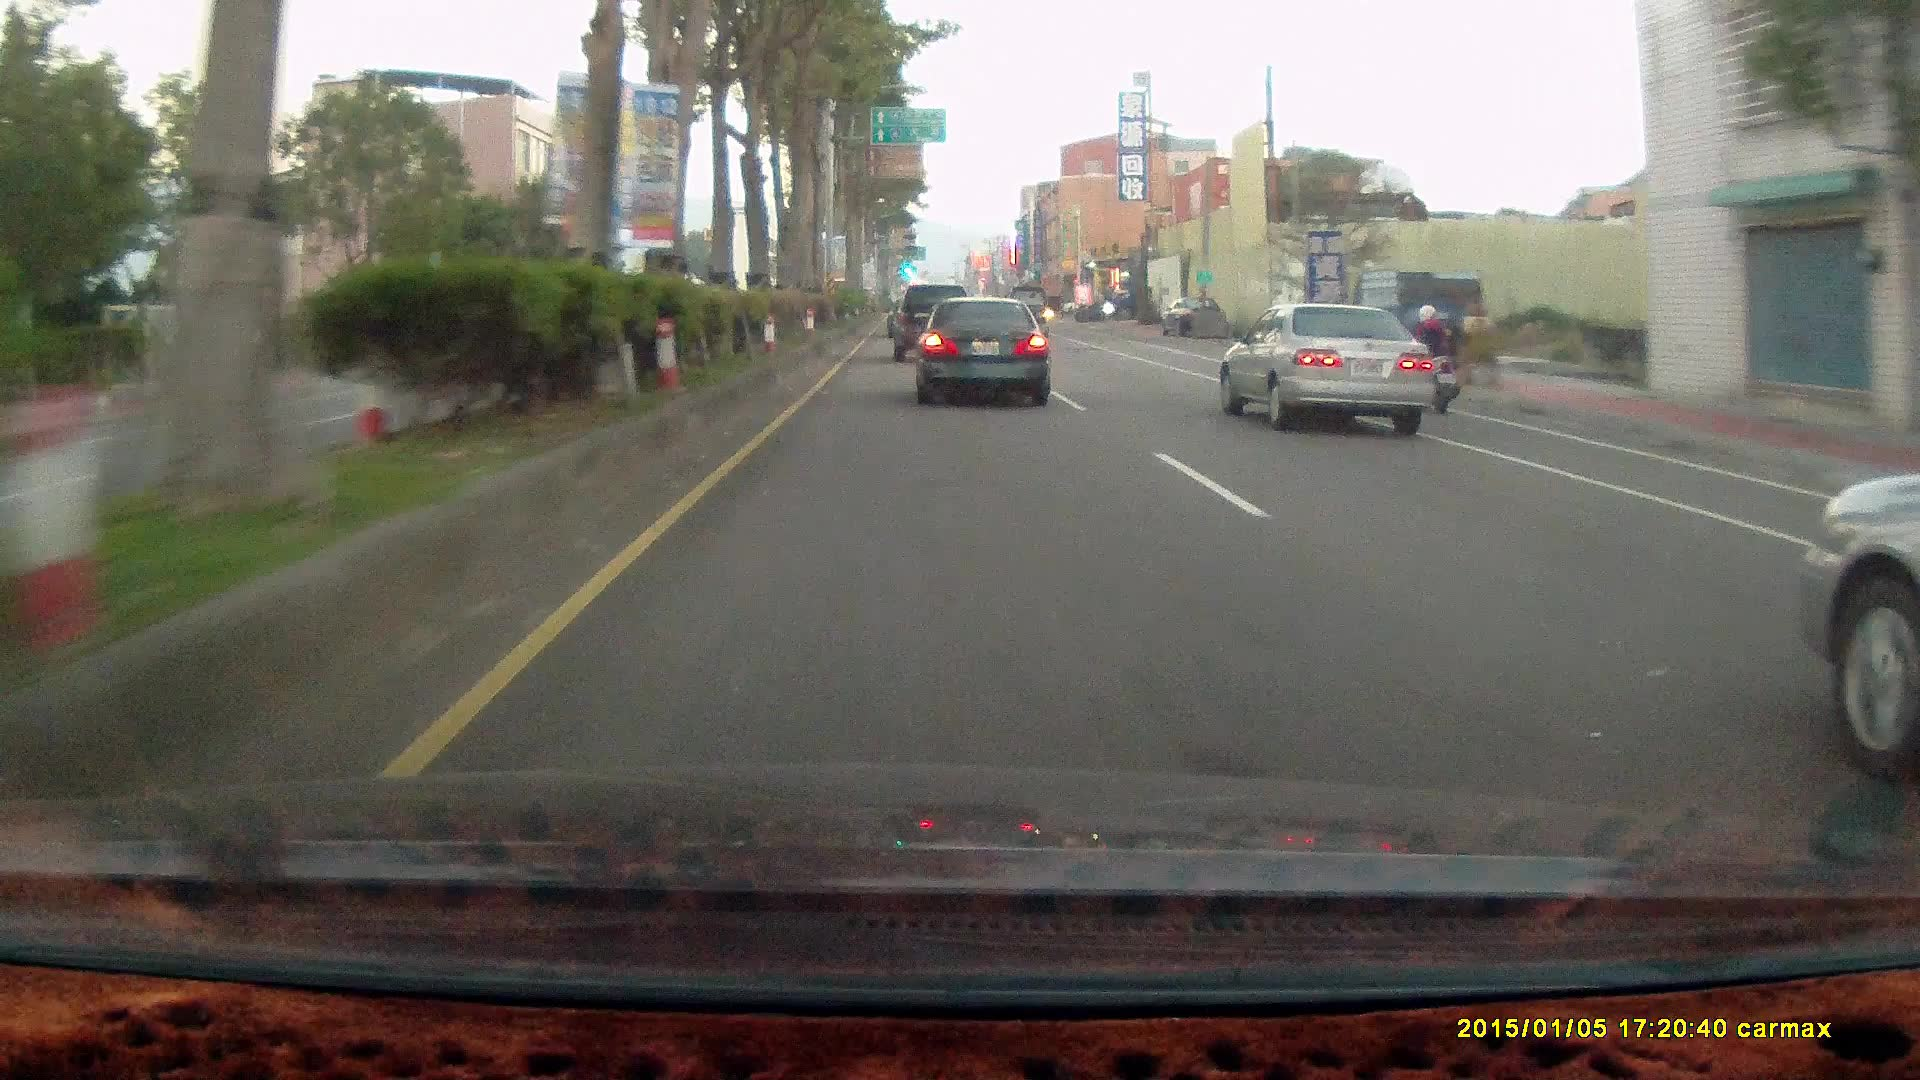rider: (1391, 293, 1469, 423), (1392, 301, 1456, 415)
vehicle: (1790, 441, 1920, 781), (1218, 300, 1435, 435), (1224, 302, 1439, 437), (910, 294, 1049, 405), (914, 297, 1051, 403), (1350, 270, 1484, 369), (889, 282, 972, 361), (1157, 295, 1229, 342), (1004, 283, 1049, 334), (1098, 283, 1161, 319)
